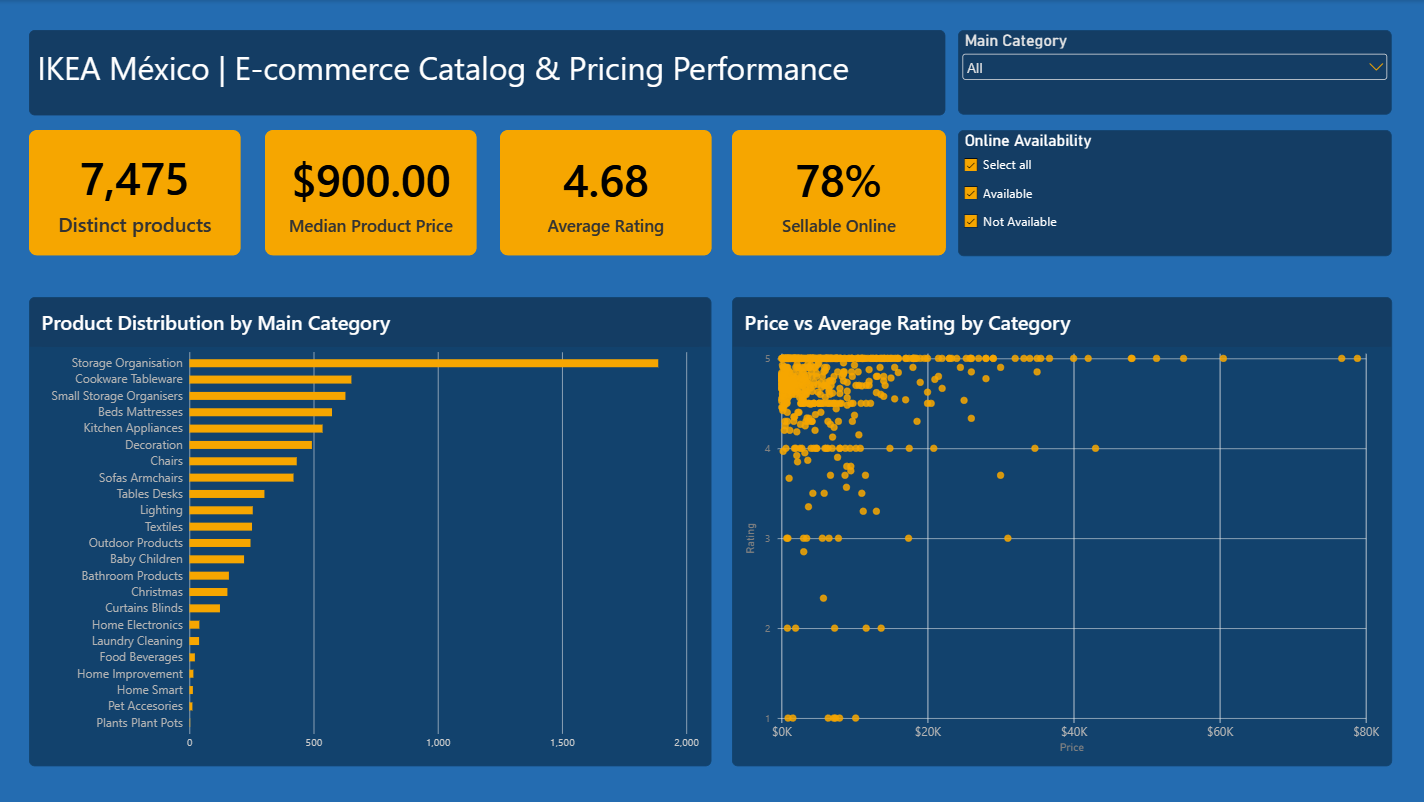

The dashboard page shown, as its layout file describes it:
{"tool":"powerbi","page":{"name":"Page 1","canvas":[1920,1080],"ordinal":0},"visuals":[{"type":"cardVisual","fields":{"Data":["IKEA_mexico_clean.Distinct products"]},"box":[40.4,175.1,285.5,169.7],"z":0},{"type":"textbox","title":"sdsd","box":[40.9,40.9,1234.3,115],"z":1000},{"type":"cardVisual","fields":{"Data":["Median(IKEA_mexico_clean.price)"]},"box":[358.2,175.1,285,169.2],"z":2000},{"type":"cardVisual","fields":{"Data":["Avg(IKEA_mexico_clean.product_rating)"]},"box":[674.7,175.1,285,169.2],"z":3000},{"type":"cardVisual","fields":{"Data":["IKEA_mexico_clean.Porcentaje Venta Linea"]},"box":[987.1,175.1,288.2,169.7],"z":4000},{"type":"barChart","title":"Product Distribution by Main Category","fields":{"Category":["IKEA_mexico_clean.main_category","IKEA_mexico_clean.sub_category"],"Y":["CountNonNull(IKEA_mexico_clean.main_category)"]},"box":[40.9,399.8,919.1,631.7],"z":5000},{"type":"scatterChart","title":"Price vs Average Rating by Category","fields":{"X":["IKEA_mexico_clean.price"],"Y":["Avg(IKEA_mexico_clean.product_rating)"]},"box":[987.7,399.8,888.5,631.7],"z":6000},{"type":"slicer","title":"Online Availability","fields":{"Values":["IKEA_mexico_clean.Available Online"]},"box":[1291.4,175.1,584.4,169.7],"z":7000},{"type":"slicer","fields":{"Values":["IKEA_mexico_clean.main_category"]},"box":[1291.4,40.4,584.4,114.5],"z":8000}]}

Visuals, with their boxes in screenshot pixels (x1, y1, x2, y2), scaled from the page's 1920x1080 canvas onto the 1424x802 screenshot:
cardVisual - IKEA_mexico_clean.Distinct products: bbox=(30, 130, 242, 256)
"sdsd" textbox: bbox=(30, 30, 946, 116)
cardVisual - Median(IKEA_mexico_clean.price): bbox=(266, 130, 477, 256)
cardVisual - Avg(IKEA_mexico_clean.product_rating): bbox=(500, 130, 712, 256)
cardVisual - IKEA_mexico_clean.Porcentaje Venta Linea: bbox=(732, 130, 946, 256)
"Product Distribution by Main Category" barChart: bbox=(30, 297, 712, 766)
"Price vs Average Rating by Category" scatterChart: bbox=(733, 297, 1392, 766)
"Online Availability" slicer: bbox=(958, 130, 1391, 256)
slicer - IKEA_mexico_clean.main_category: bbox=(958, 30, 1391, 115)
